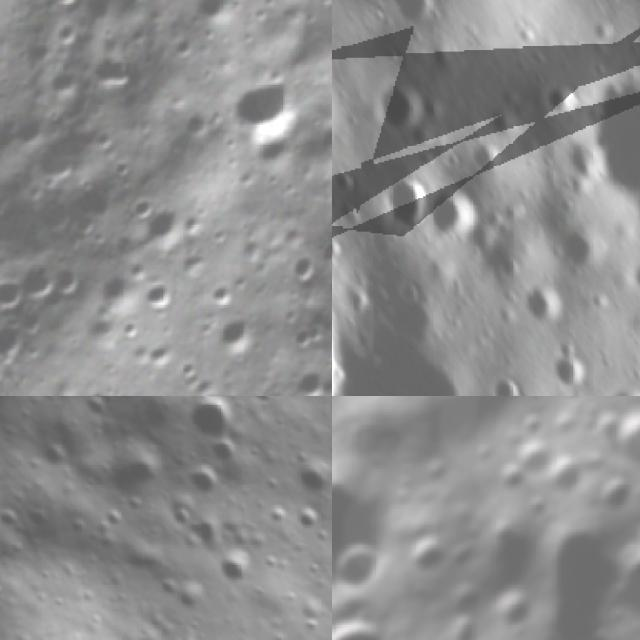crater: (491, 505, 640, 640), (332, 433, 423, 640), (566, 56, 640, 229), (209, 54, 317, 163), (369, 161, 444, 242), (410, 172, 486, 248), (84, 39, 157, 110), (599, 520, 640, 640), (332, 531, 394, 608), (367, 69, 434, 140), (545, 208, 610, 278), (550, 130, 614, 199), (207, 304, 272, 370), (180, 396, 249, 457), (536, 333, 602, 396), (38, 50, 100, 113), (482, 579, 544, 640), (599, 396, 640, 484), (578, 398, 634, 456), (332, 599, 411, 640), (0, 309, 44, 375), (516, 277, 568, 332), (178, 0, 244, 43), (41, 254, 95, 306), (534, 71, 584, 126), (135, 270, 187, 322), (400, 530, 452, 582), (182, 456, 232, 507), (510, 432, 560, 483), (0, 263, 42, 323), (488, 454, 536, 503), (279, 352, 332, 396), (213, 544, 262, 590), (15, 262, 63, 308), (292, 451, 332, 502), (283, 245, 326, 288), (510, 404, 552, 446), (433, 609, 487, 640), (290, 498, 332, 537), (392, 0, 443, 32), (206, 433, 245, 474), (188, 514, 228, 553), (165, 497, 201, 535), (521, 488, 558, 524), (38, 443, 73, 480), (29, 0, 92, 20), (482, 371, 523, 396), (103, 396, 159, 411), (0, 503, 24, 537), (625, 251, 640, 297), (247, 396, 283, 412)
